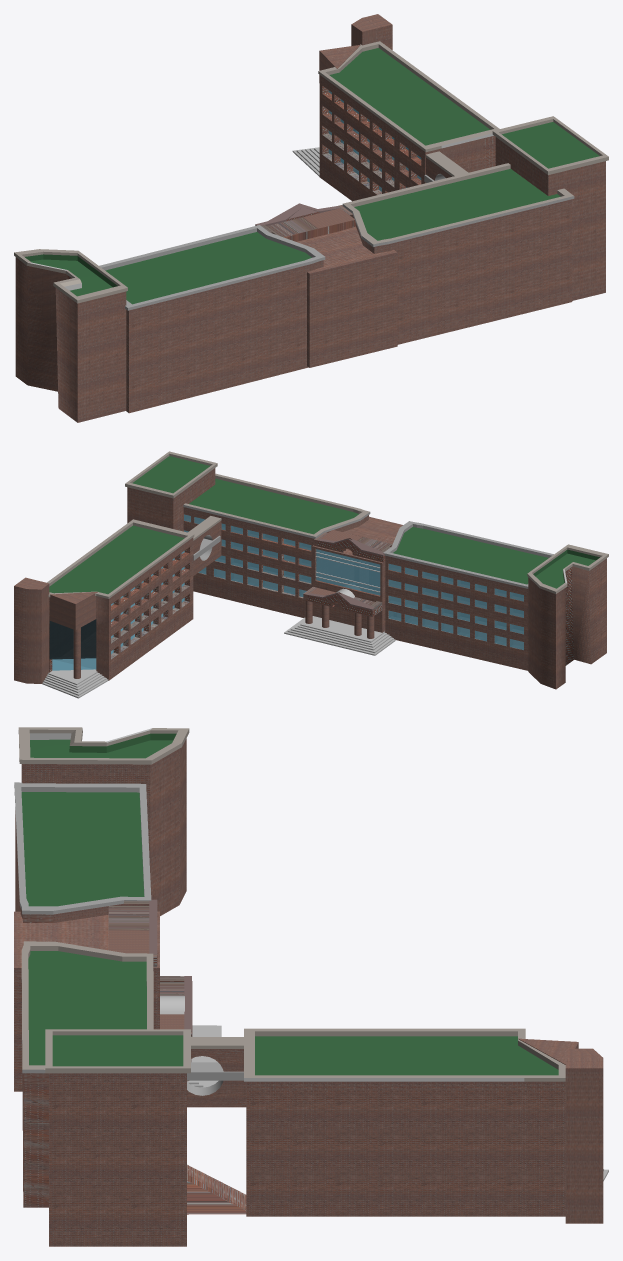
Rendered from NHem.fbx.
The picture shows the model from 3 angles, top to bottom: view 1: azimuth 30°, elevation 25°; view 2: azimuth 150°, elevation 25°; view 3: azimuth 270°, elevation 25°; orthographic projection. The views are drawn at different scales.
Visible parts, largest first — view 1: polySurface102, polySurface103, polySurface67, polySurface8, pCube14, polySurface6, polySurface104, polySurface4, polySurface5, polySurface3; view 2: polySurface102, polySurface67, polySurface103, polySurface8, polySurface6, pCube14, polySurface4, pCube11, polySurface3, polySurface69, polySurface104, pCube12 (+4 smaller); view 3: polySurface67, polySurface6, polySurface102, polySurface103, polySurface8, polySurface4, pCube14, polySurface12, polySurface5, polySurface104, pCube13, polySurface3 (+1 smaller).
Part boxes in pixels (bbox=[...]): polySurface102: bbox=[99, 225, 325, 413]; polySurface103: bbox=[342, 163, 574, 344]; polySurface67: bbox=[318, 41, 499, 201]; polySurface8: bbox=[14, 249, 127, 422]; pCube14: bbox=[297, 226, 397, 367]; polySurface6: bbox=[492, 116, 608, 300]; polySurface104: bbox=[255, 203, 355, 241]; polySurface4: bbox=[351, 14, 392, 49]; polySurface5: bbox=[425, 151, 468, 180]; polySurface3: bbox=[319, 45, 360, 82]; polySurface102: bbox=[383, 521, 553, 670]; polySurface67: bbox=[47, 519, 194, 680]; polySurface103: bbox=[183, 473, 370, 617]; polySurface8: bbox=[527, 544, 608, 689]; polySurface6: bbox=[125, 451, 217, 531]; pCube14: bbox=[312, 516, 402, 632]; polySurface4: bbox=[14, 577, 49, 683]; pCube11: bbox=[284, 616, 395, 655]; polySurface3: bbox=[49, 591, 97, 630]; polySurface69: bbox=[49, 619, 96, 659]; polySurface104: bbox=[314, 530, 392, 562]; pCube12: bbox=[42, 669, 108, 698]; polySurface67: bbox=[244, 1028, 565, 1216]; polySurface6: bbox=[45, 1029, 190, 1246]; polySurface102: bbox=[14, 782, 151, 922]; polySurface103: bbox=[21, 941, 153, 1207]; polySurface8: bbox=[18, 727, 189, 915]; polySurface4: bbox=[565, 1048, 603, 1223]; pCube14: bbox=[14, 911, 159, 1091]; polySurface12: bbox=[160, 976, 246, 1214]; polySurface5: bbox=[187, 1037, 246, 1107]; polySurface104: bbox=[108, 899, 157, 967]; pCube13: bbox=[187, 1062, 243, 1080]; polySurface3: bbox=[518, 1038, 578, 1064].
Size of what is drawn, in the model's own units: 274 by 66.12 by 199.
